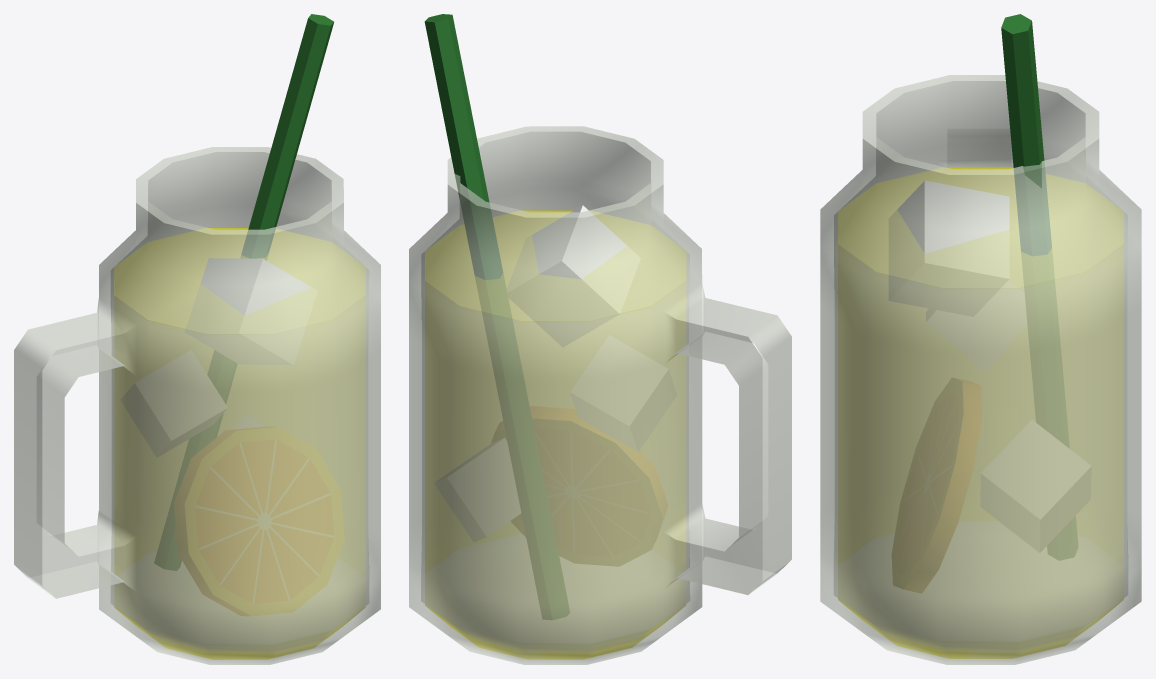
File: Lemonade.fbx
3 views of the same model, side by side, from view 1: azimuth 30°, elevation 25°; view 2: azimuth 150°, elevation 25°; view 3: azimuth 270°, elevation 25° (orthographic). The views are drawn at different scales.
Parts seen in each view (by area): view 1: Lemonade; view 2: Lemonade; view 3: Lemonade.
Boxes of the visible parts, <box> form: Lemonade: <box>14,14,380,664</box>; Lemonade: <box>409,14,791,664</box>; Lemonade: <box>820,14,1141,664</box>.
Size of the model in its own units: 34.55 by 55.8 by 25.21.
